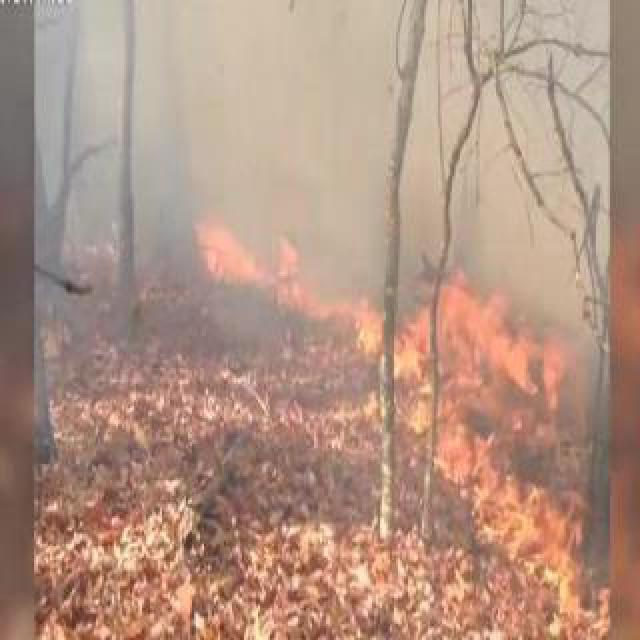Fire: (402, 274, 564, 404), (198, 208, 302, 310)
